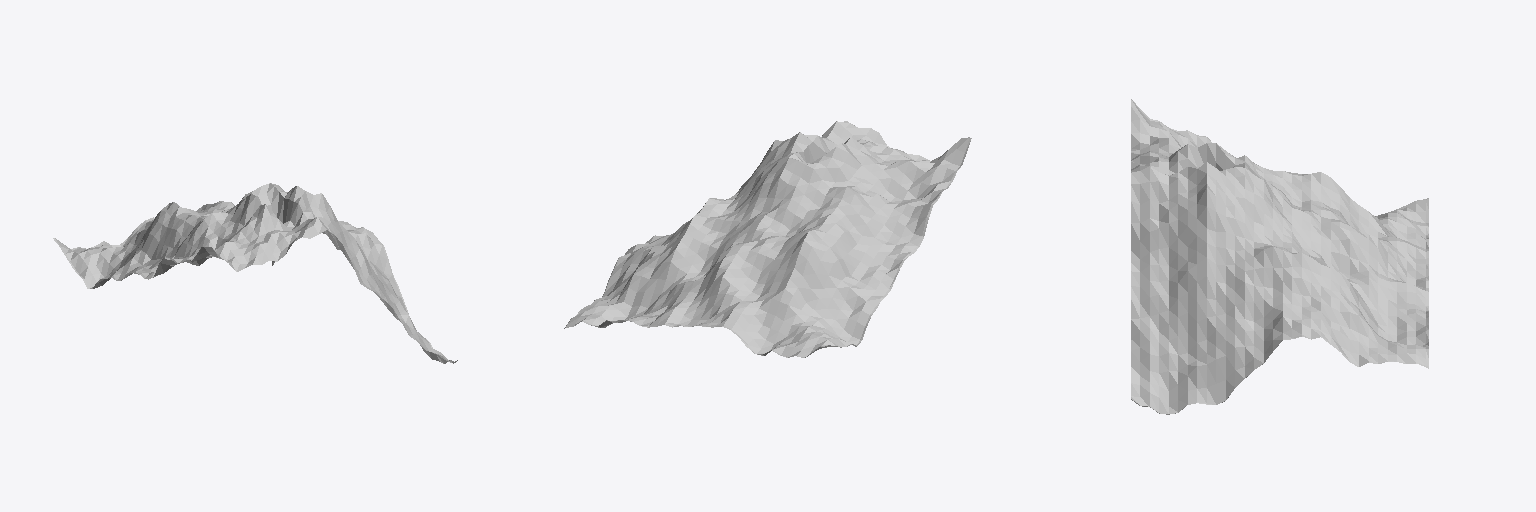
File: terrain_2_-3.obj
The picture shows the model from 3 angles: view 1: azimuth 30°, elevation 25°; view 2: azimuth 150°, elevation 25°; view 3: azimuth 270°, elevation 25°; orthographic projection.
Visible parts, largest first — view 1: terrain_2_-3_Plane.039; view 2: terrain_2_-3_Plane.039; view 3: terrain_2_-3_Plane.039.
Boxes of the visible parts, <box> form: terrain_2_-3_Plane.039: <box>53,183,457,363</box>; terrain_2_-3_Plane.039: <box>564,121,971,357</box>; terrain_2_-3_Plane.039: <box>1131,99,1428,414</box>.
Size of the model in its own units: 32 by 22.78 by 32.